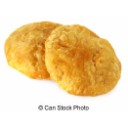poori: (46, 24, 120, 96), (3, 20, 58, 79)
